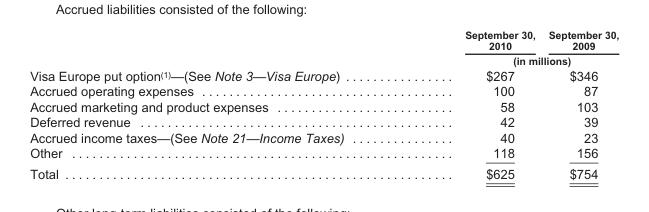table: (29, 28, 618, 180)
table column: (29, 28, 403, 180), (403, 28, 541, 180), (541, 28, 618, 180)
table column header: (29, 28, 618, 67)
table row: (29, 28, 618, 52), (29, 144, 618, 162), (29, 162, 618, 180), (29, 82, 618, 98), (29, 113, 618, 129), (29, 52, 618, 67), (29, 67, 618, 82), (29, 98, 618, 113), (29, 129, 618, 144)
table spanning cell: (403, 52, 618, 67)
